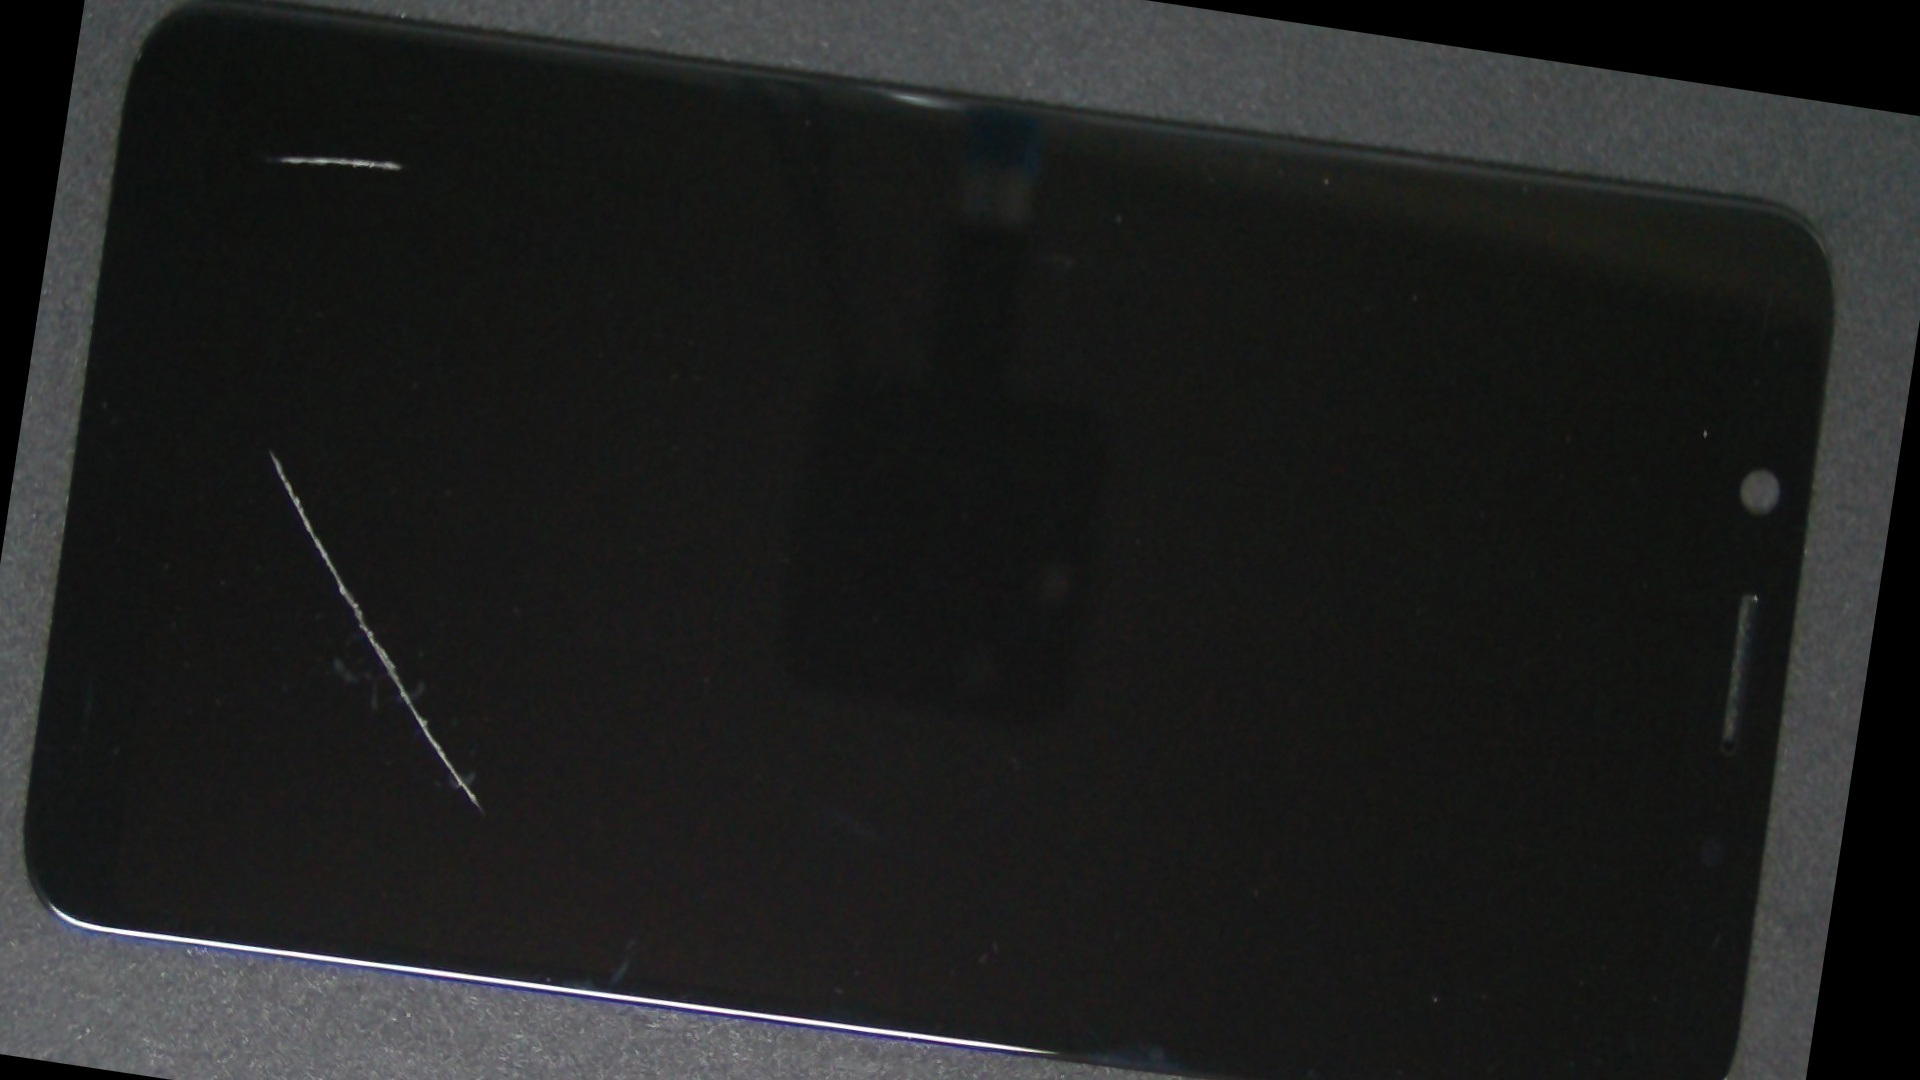oil: (104, 146, 435, 752), (206, 3, 562, 319)
